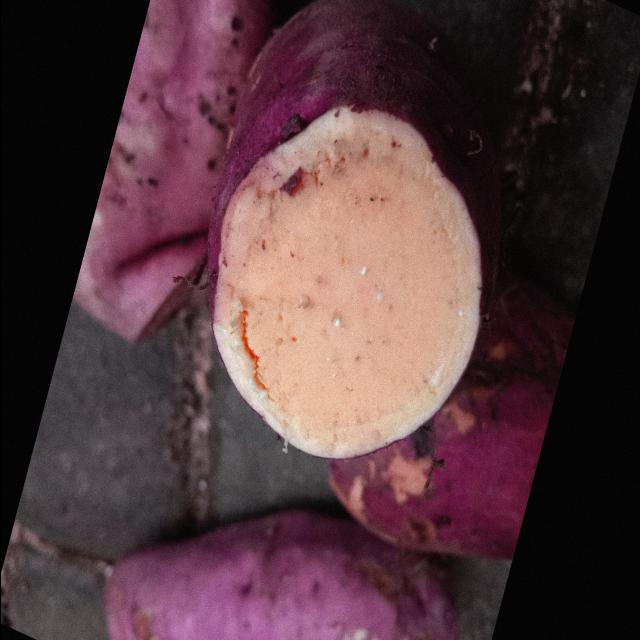Healthy Sweet Potato: (212, 107, 480, 458)
